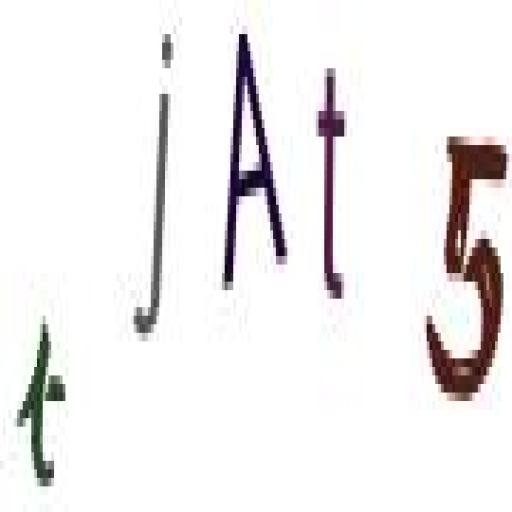5: (426, 116, 512, 426)
A: (220, 14, 292, 296)
j: (131, 19, 177, 354)
t: (311, 50, 354, 315), (16, 290, 70, 500)
